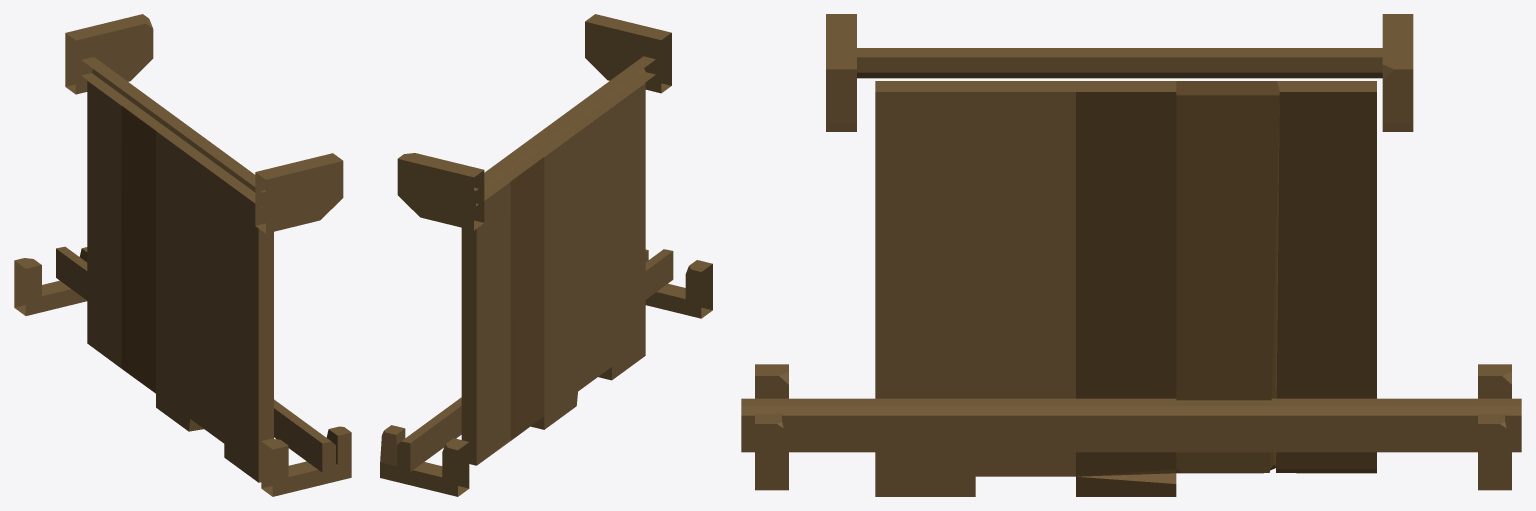
The model's file is EA03_Prop_House_Shutter_01e.glb.
The picture shows the model from 3 angles, left to right: view 1: azimuth 30°, elevation 25°; view 2: azimuth 150°, elevation 25°; view 3: azimuth 270°, elevation 25°; orthographic projection. The views are drawn at different scales.
Parts seen in each view (by area): view 1: EA03_Prop_House_Shutter_01e; view 2: EA03_Prop_House_Shutter_01e; view 3: EA03_Prop_House_Shutter_01e.
Part boxes in pixels (left/top/right/bottom): EA03_Prop_House_Shutter_01e: left=14, top=14, right=351, bottom=496; EA03_Prop_House_Shutter_01e: left=380, top=14, right=712, bottom=496; EA03_Prop_House_Shutter_01e: left=741, top=14, right=1521, bottom=496.
Size of the model in its own units: 0.3834 by 1.23 by 1.86.
1 material, 1 textured.
